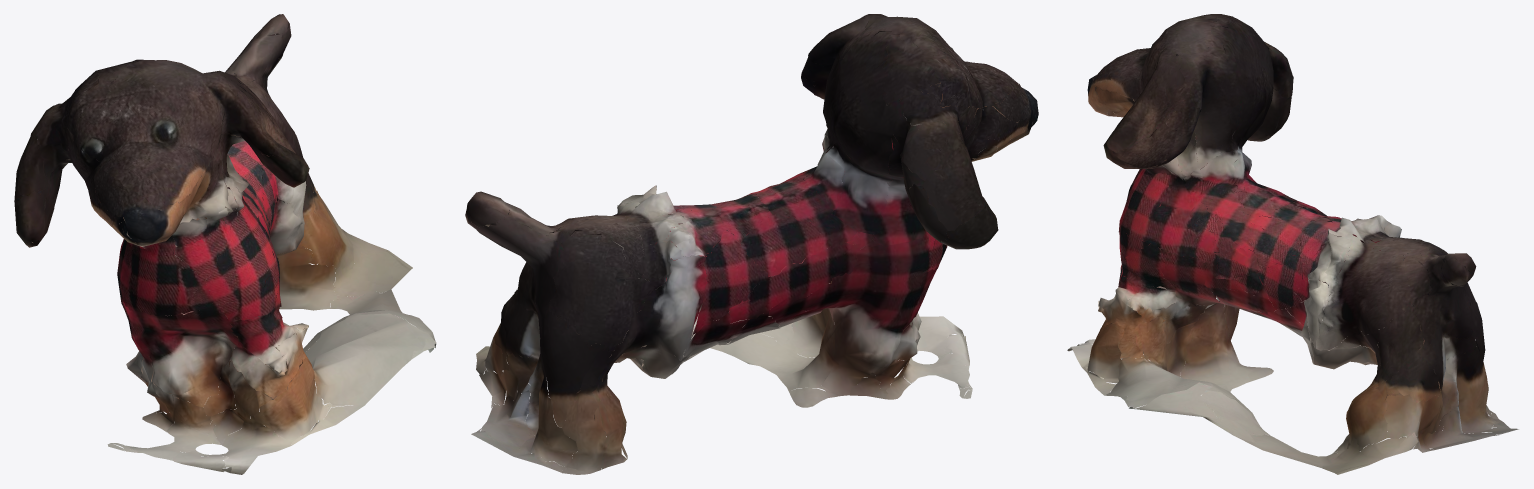
Rendered from asset.glb.
3 views of the same model, side by side, from view 1: azimuth 30°, elevation 25°; view 2: azimuth 150°, elevation 25°; view 3: azimuth 270°, elevation 25° (orthographic). The views are drawn at different scales.
Visible parts, largest first — view 1: Mesh_0; view 2: Mesh_0; view 3: Mesh_0.
Boxes of the visible parts, box(x1,y1,x2,y2) form: Mesh_0: box(14, 14, 436, 474); Mesh_0: box(465, 14, 1038, 474); Mesh_0: box(1067, 14, 1518, 474).
Bounding box in the file's own units: 0.8974 × 0.6886 × 0.874.
1 material, 1 textured.
